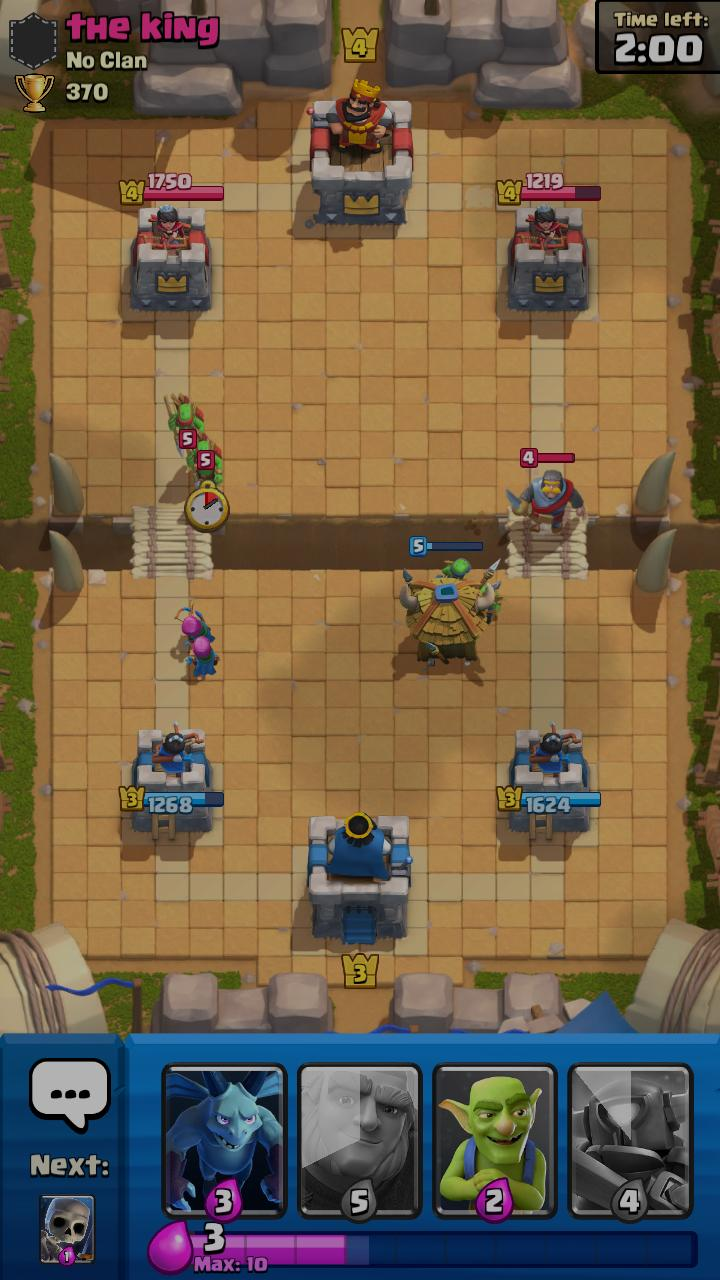ally: (400, 536, 495, 667), (174, 601, 216, 648), (185, 636, 220, 680), (477, 580, 507, 625), (435, 558, 476, 580)
enemy: (506, 448, 587, 533), (163, 394, 205, 458), (186, 426, 224, 490)
